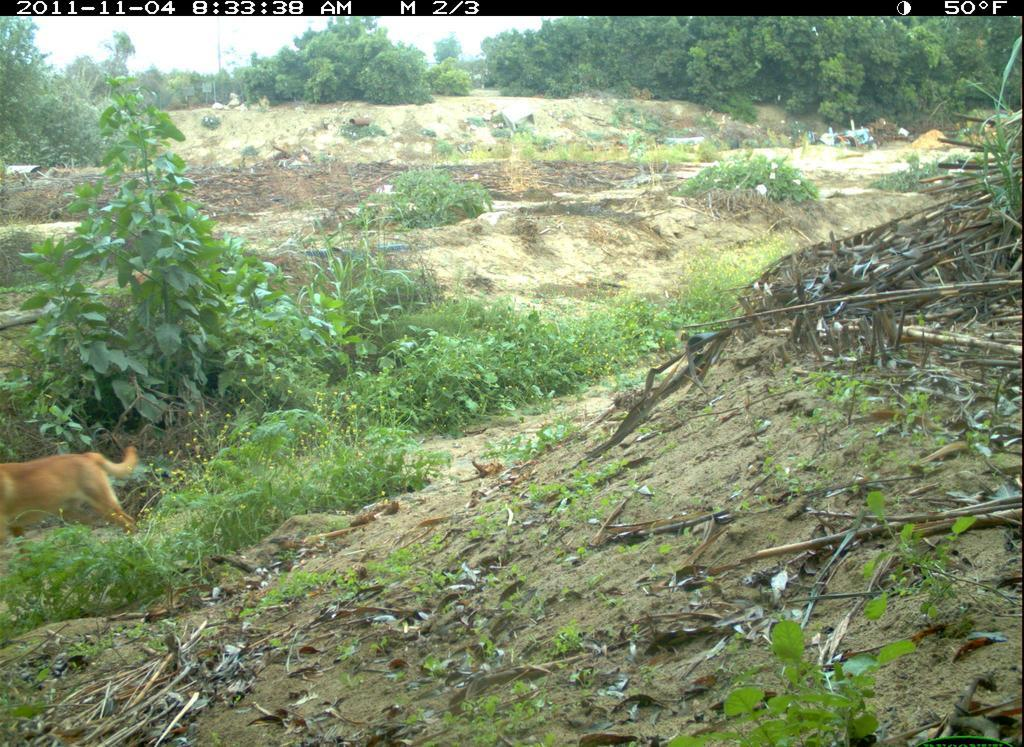dog: (1, 432, 149, 545)
